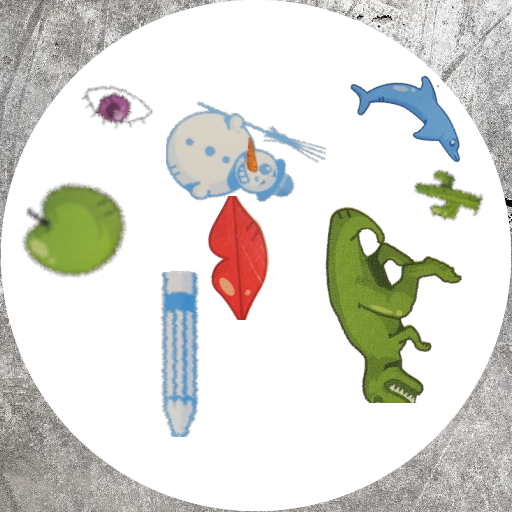apple_icon: (20, 181, 130, 291)
cactus_icon: (412, 161, 486, 235)
dino_icon: (268, 207, 464, 403)
dolphin_icon: (348, 50, 477, 179)
eye_icon: (81, 70, 153, 142)
lips_icon: (183, 196, 307, 320)
pen_icon: (96, 271, 262, 437)
snowman_icon: (166, 71, 326, 231)
